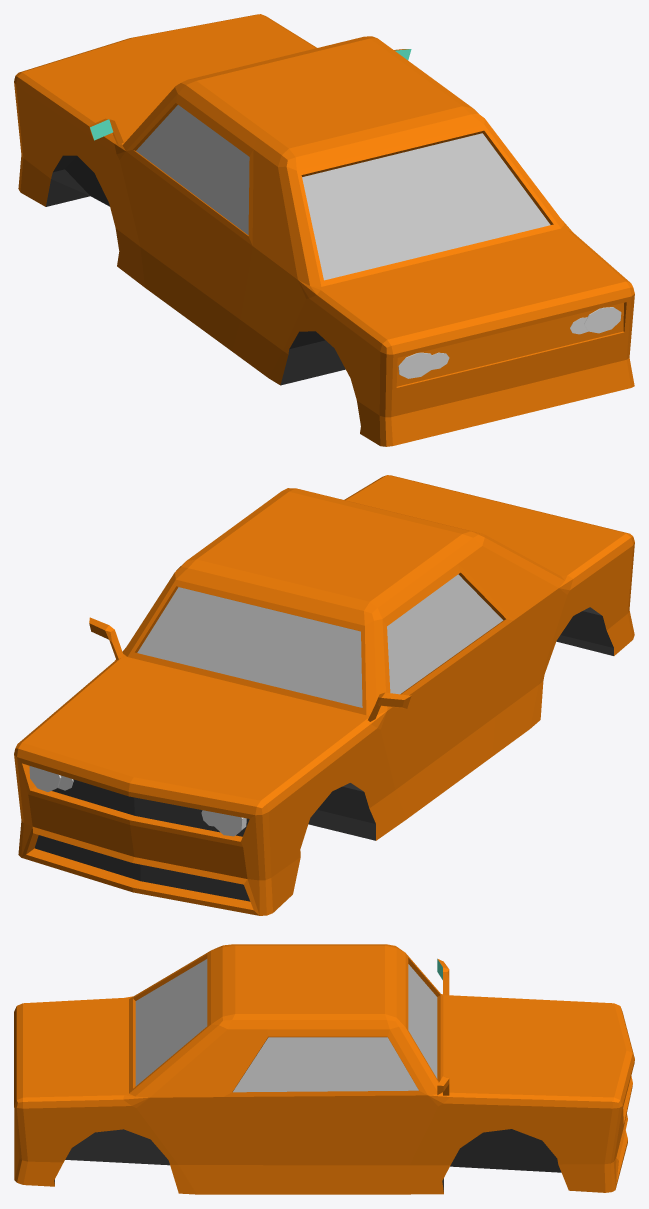
Rendered from AIcar2.fbx.
3 views of the same model, one above another, from view 1: azimuth 30°, elevation 25°; view 2: azimuth 150°, elevation 25°; view 3: azimuth 270°, elevation 25° (orthographic). The views are drawn at different scales.
Visible parts, largest first — view 1: AIcar1; view 2: AIcar1; view 3: AIcar1.
Boxes of the visible parts, box(x1,y1,x2,y2) form: AIcar1: box(14, 14, 634, 446); AIcar1: box(14, 475, 634, 915); AIcar1: box(14, 944, 634, 1194).
Bounding box in the file's own units: 4.37 × 2.62 × 9.03.
